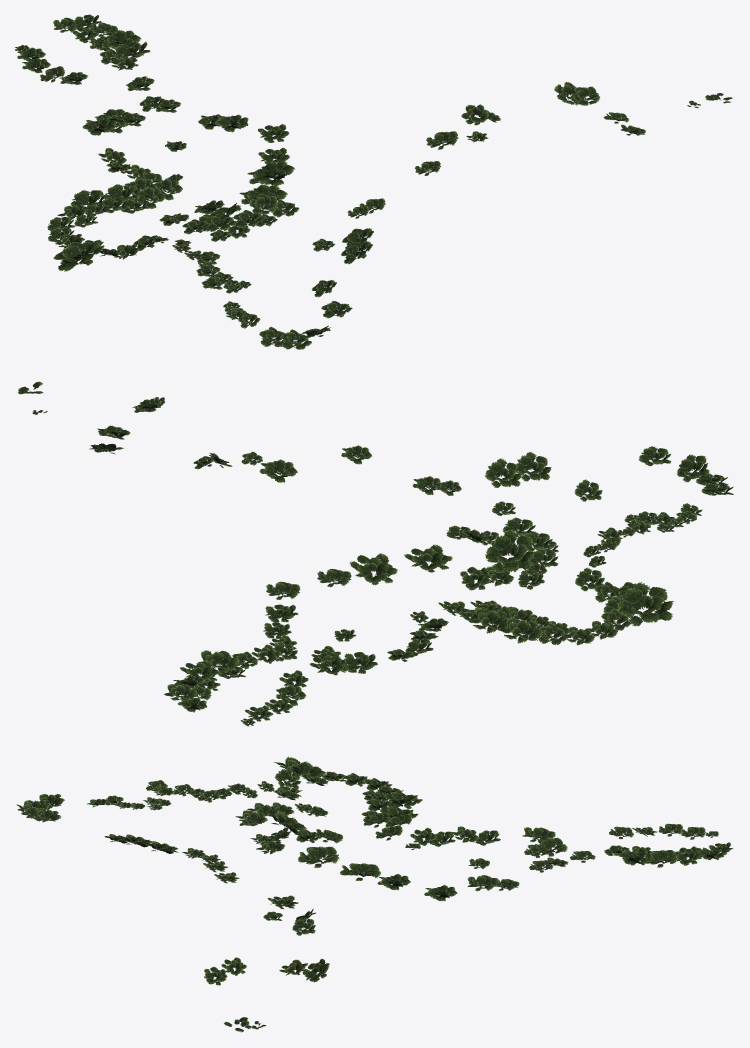
File: Folliage_Forest.FBX
3 renders of one model, top to bottom at view 1: azimuth 30°, elevation 25°; view 2: azimuth 150°, elevation 25°; view 3: azimuth 270°, elevation 25°, orthographic. The views are drawn at different scales.
Parts seen in each view (by area): view 1: Object070, Folliage; view 2: Object070, Folliage; view 3: Folliage, Object070.
Boxes of the visible parts, x1,y1,x2,y2 form: Object070: (47,82,732,349); Folliage: (15,14,299,241); Object070: (17,381,733,645); Folliage: (164,517,558,726); Folliage: (235,802,732,901); Object070: (16,756,422,1032).
Size of the model in its own units: 963 by 88.69 by 971.
